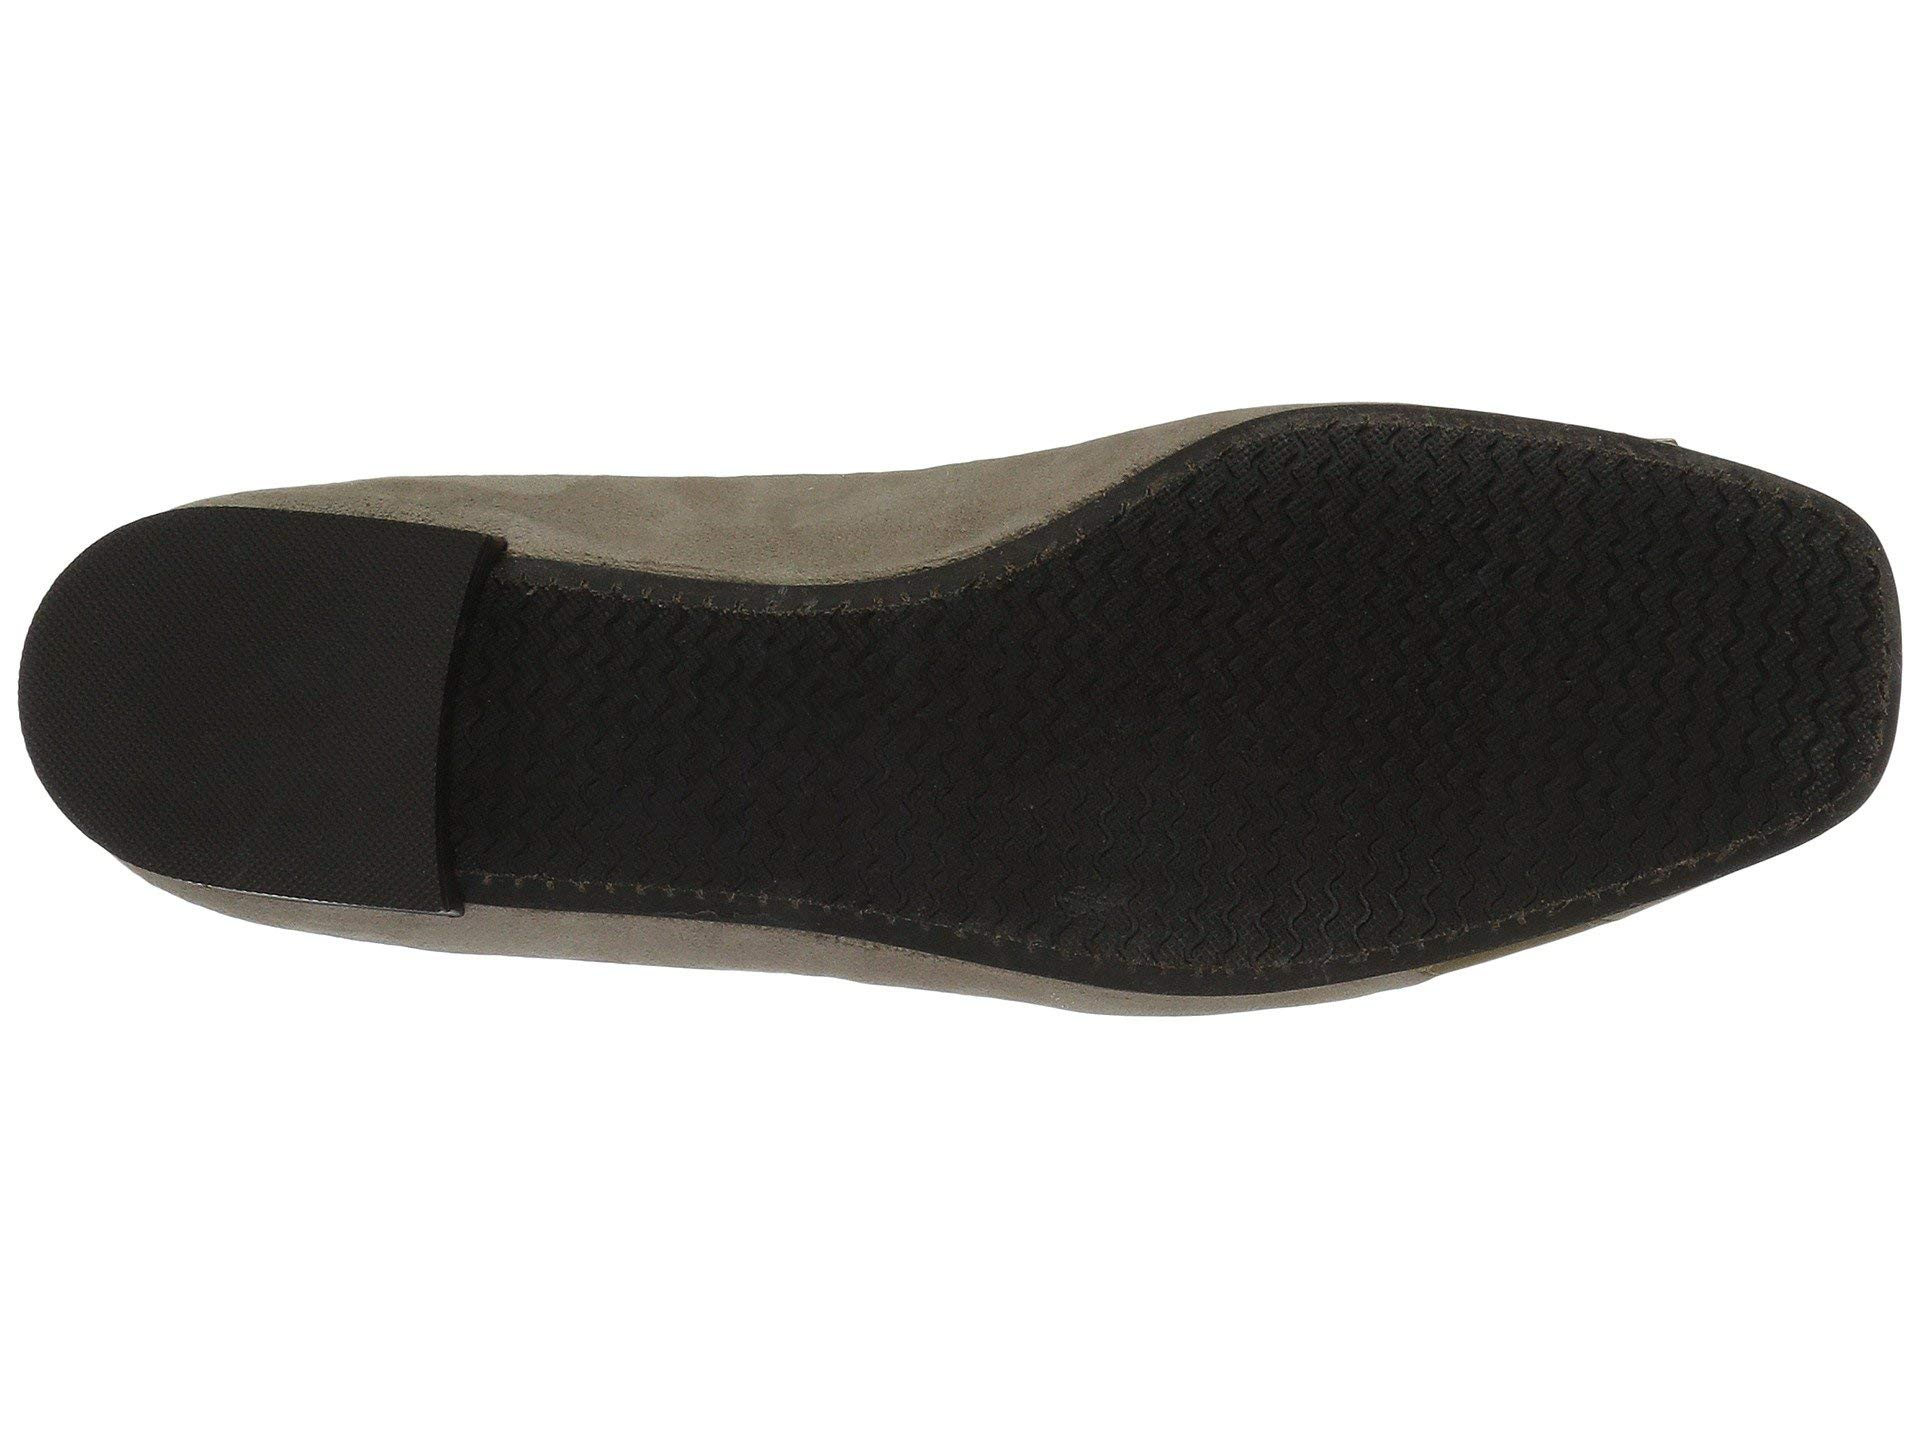chevron: (1206, 445, 1633, 900), (1637, 483, 1850, 824)
